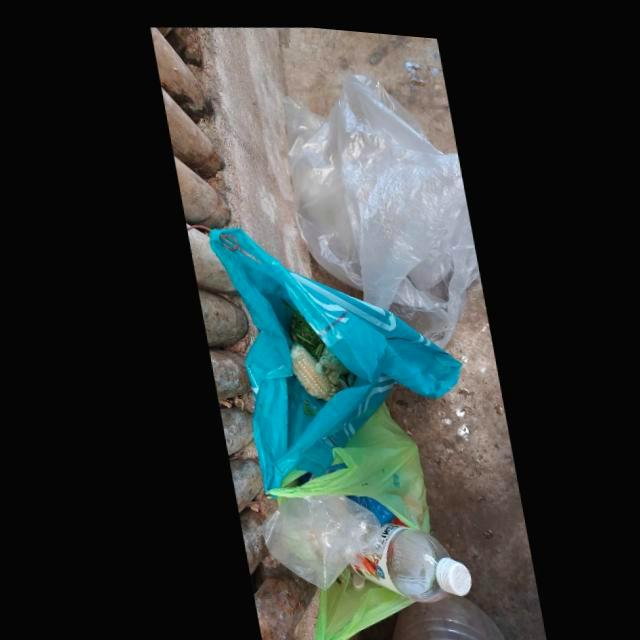plastic_bag: (280, 67, 475, 342), (250, 489, 374, 586)
plastic_bottle: (335, 517, 460, 596)
